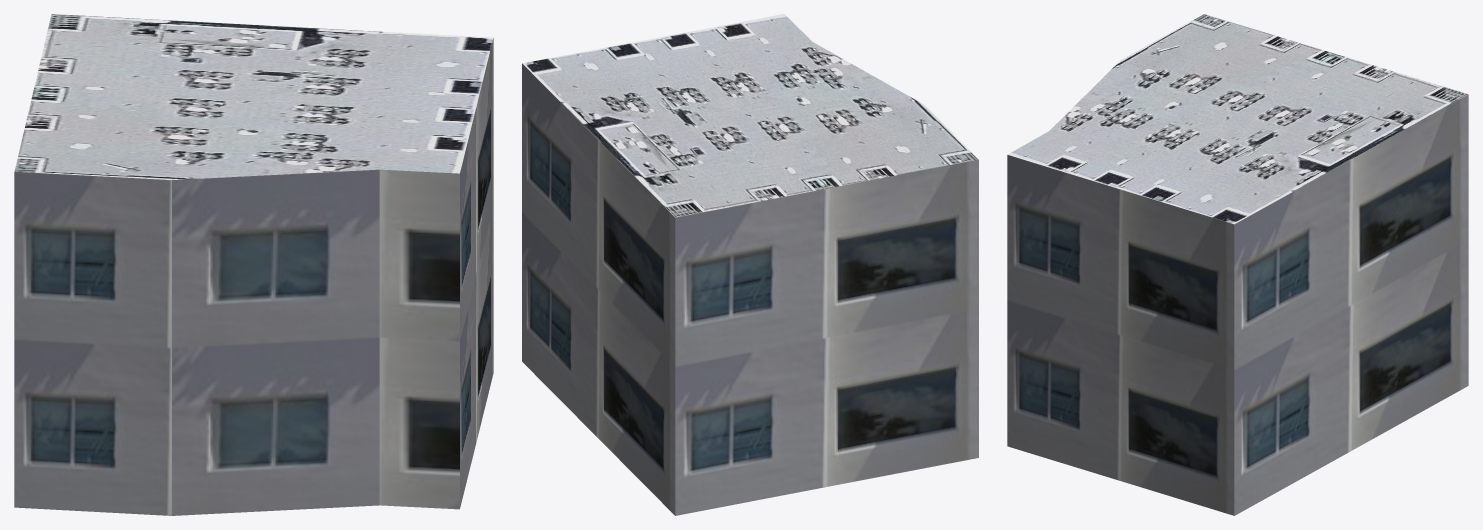
The model's file is ResTex__4892.fbx.
3 views of the same model, side by side, from view 1: azimuth 30°, elevation 25°; view 2: azimuth 150°, elevation 25°; view 3: azimuth 270°, elevation 25° (orthographic). The views are drawn at different scales.
Visible parts, largest first — view 1: CityEngineMaterial_10_m, CityEngineMaterial_4_m; view 2: CityEngineMaterial_10_m, CityEngineMaterial_4_m; view 3: CityEngineMaterial_10_m, CityEngineMaterial_4_m.
Part boxes in pixels (x1,y1,x2,y2): CityEngineMaterial_10_m: (14, 38, 493, 515); CityEngineMaterial_4_m: (14, 14, 493, 179); CityEngineMaterial_10_m: (522, 63, 978, 515); CityEngineMaterial_4_m: (522, 14, 978, 217); CityEngineMaterial_10_m: (1007, 94, 1468, 515); CityEngineMaterial_4_m: (1007, 14, 1468, 224).
Bounding box in the file's own units: 9.28 × 6 × 8.6.
2 materials, 2 textured.
